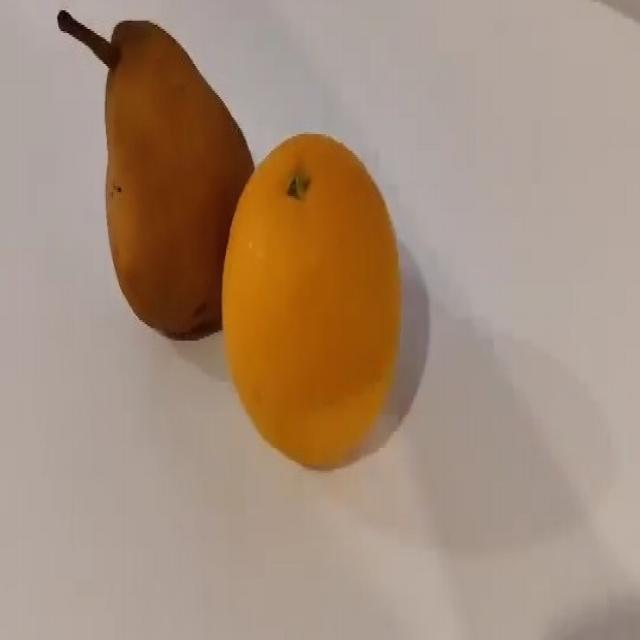Orange: (219, 131, 403, 470)
